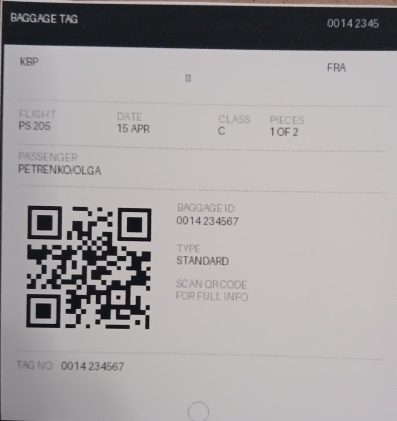LPN_bottom: (58, 357, 127, 375)
LPN_right: (171, 212, 241, 228)
